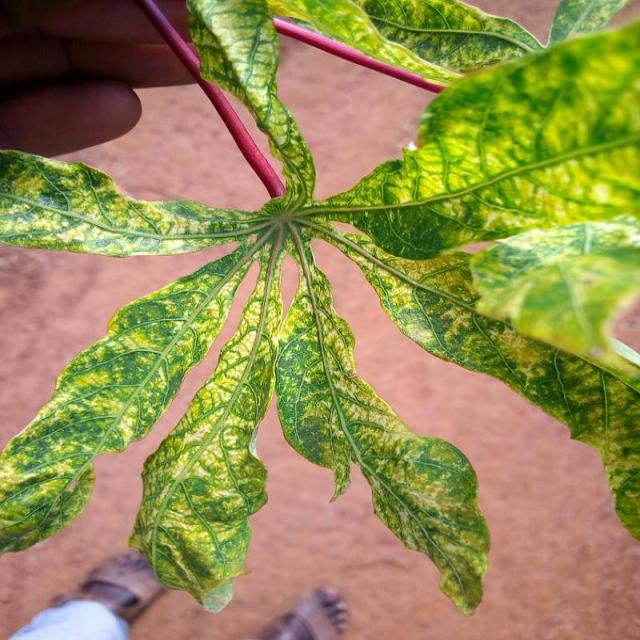cassava leaf: (1, 1, 638, 618)
